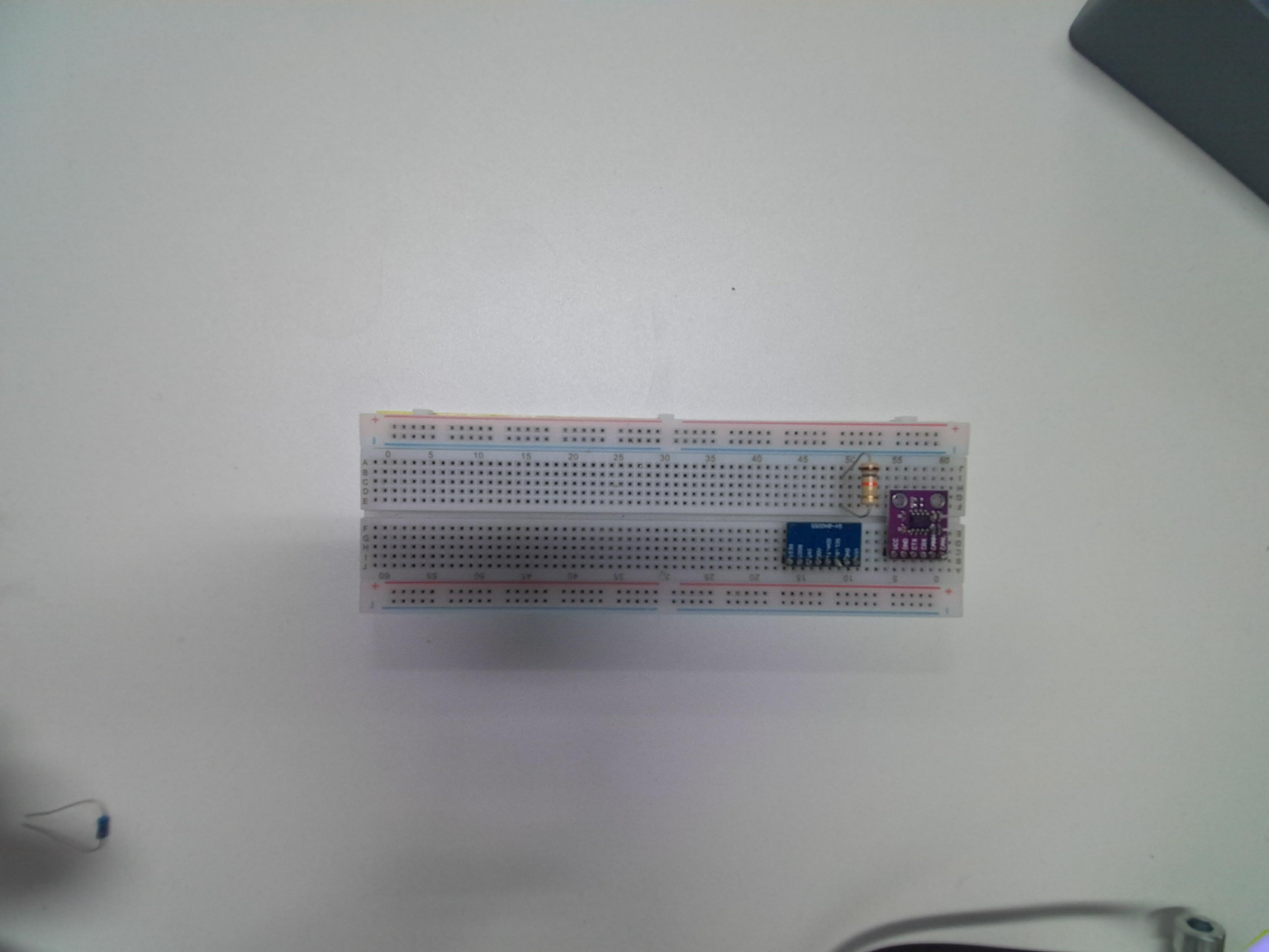base: (355, 415, 971, 621)
blue-board: (782, 520, 862, 571)
purple-board: (883, 487, 950, 562)
resistor-big: (860, 458, 878, 512)
